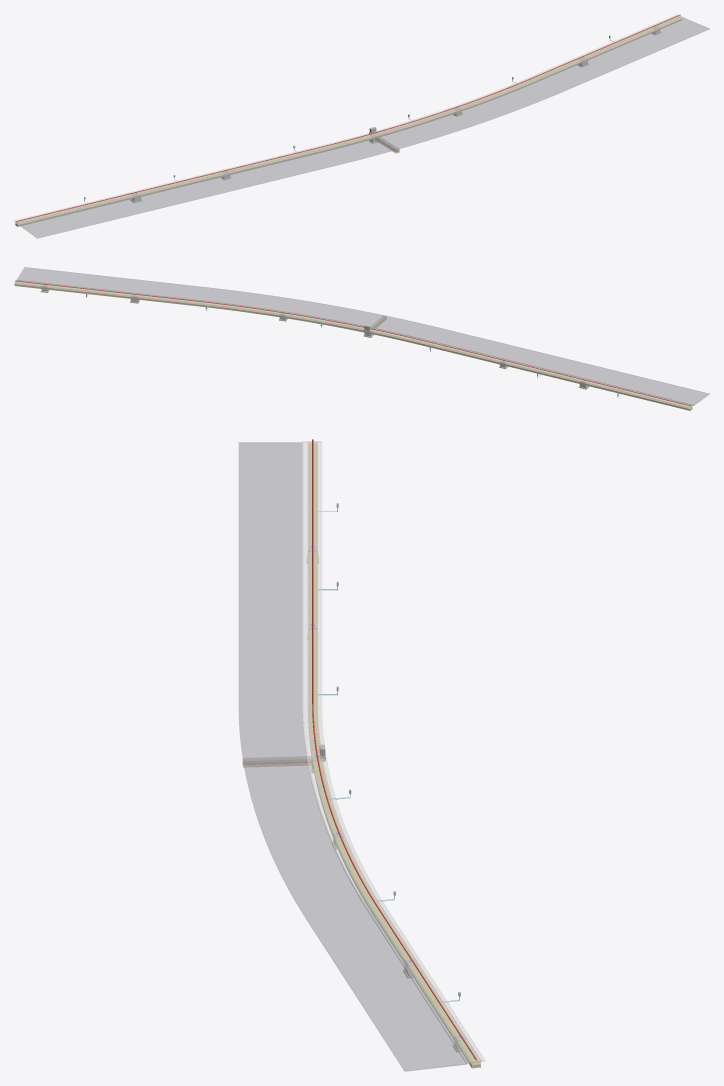
The picture shows the model from 3 angles, top to bottom: view 1: azimuth 30°, elevation 25°; view 2: azimuth 150°, elevation 25°; view 3: azimuth 270°, elevation 25°; orthographic projection. The views are drawn at different scales.
Visible parts, largest first — view 1: 道路|車道 (参考), 道路|歩道 (参考), 舗装|歩道舗装復旧 (t=19cm), 土工|管路基礎 (砂 t=10cm) / 埋戻し砂, 附属|埋設シート (注意標示), 道路|歩車道境界ブロック (参考), 線形|管路ルート (中心線); view 2: 道路|車道 (参考), 道路|歩道 (参考), 土工|管路基礎 (砂 t=10cm) / 埋戻し砂, 舗装|歩道舗装復旧 (t=19cm), 附属|埋設シート (注意標示), 道路|歩車道境界ブロック (参考), 線形|管路ルート (中心線); view 3: 道路|車道 (参考), 道路|歩道 (参考), 舗装|歩道舗装復旧 (t=19cm), 附属|埋設シート (注意標示), 土工|管路基礎 (砂 t=10cm) / 埋戻し砂, 道路|歩車道境界ブロック (参考), 線形|管路ルート (中心線).
Part boxes in pixels (bbox=[...]): 道路|車道 (参考): bbox=[19, 18, 709, 238]; 道路|歩道 (参考): bbox=[14, 14, 683, 224]; 舗装|歩道舗装復旧 (t=19cm): bbox=[15, 15, 681, 223]; 土工|管路基礎 (砂 t=10cm) / 埋戻し砂: bbox=[15, 18, 681, 226]; 附属|埋設シート (注意標示): bbox=[16, 17, 680, 224]; 道路|歩車道境界ブロック (参考): bbox=[19, 17, 684, 224]; 線形|管路ルート (中心線): bbox=[16, 14, 680, 221]; 道路|車道 (参考): bbox=[17, 267, 709, 405]; 道路|歩道 (参考): bbox=[14, 280, 693, 408]; 土工|管路基礎 (砂 t=10cm) / 埋戻し砂: bbox=[14, 284, 692, 410]; 舗装|歩道舗装復旧 (t=19cm): bbox=[15, 281, 692, 407]; 附属|埋設シート (注意標示): bbox=[15, 282, 691, 408]; 道路|歩車道境界ブロック (参考): bbox=[16, 279, 693, 405]; 線形|管路ルート (中心線): bbox=[15, 280, 691, 406]; 道路|車道 (参考): bbox=[238, 442, 466, 1071]; 道路|歩道 (参考): bbox=[304, 441, 484, 1063]; 舗装|歩道舗装復旧 (t=19cm): bbox=[307, 441, 481, 1062]; 附属|埋設シート (注意標示): bbox=[309, 443, 479, 1063]; 土工|管路基礎 (砂 t=10cm) / 埋戻し砂: bbox=[308, 445, 480, 1068]; 道路|歩車道境界ブロック (参考): bbox=[302, 441, 467, 1064]; 線形|管路ルート (中心線): bbox=[312, 439, 476, 1060].
Size of the model in its own units: 240 by 3.95 by 39.86.
